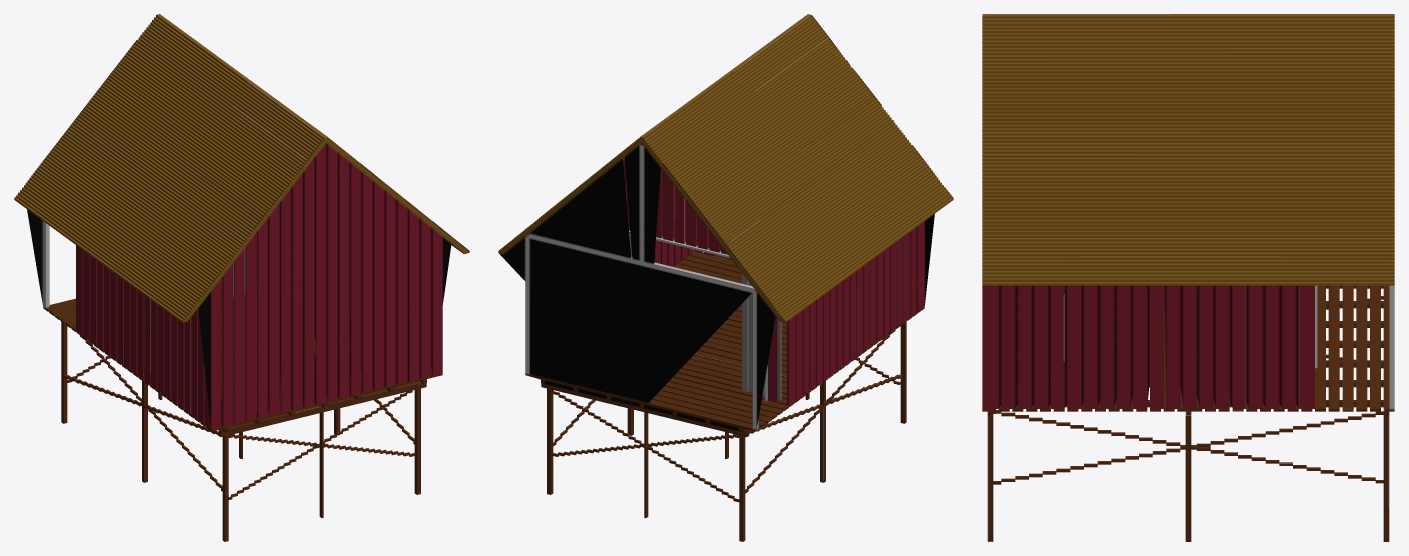
The model's file is Palafita1.fbx.
3 views of the same model, side by side, from view 1: azimuth 30°, elevation 25°; view 2: azimuth 150°, elevation 25°; view 3: azimuth 270°, elevation 25° (orthographic). The views are drawn at different scales.
Visible parts, largest first — view 1: Palafita1; view 2: Palafita1; view 3: Palafita1.
Boxes of the visible parts, x1,y1,x2,y2 form: Palafita1: (14,14,469,541); Palafita1: (498,14,953,541); Palafita1: (982,14,1394,541).
Size of the model in its own units: 1480 by 1880 by 1500.
